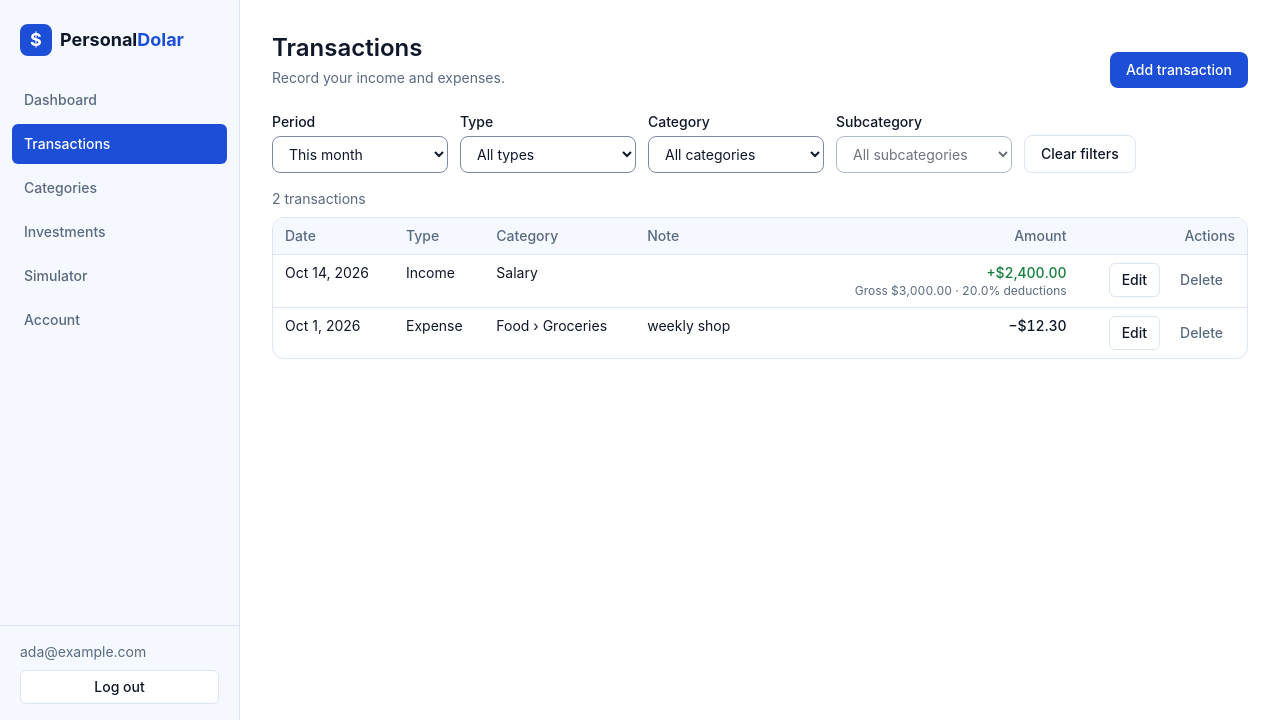
Test: Add transaction › creates an expense with the exact body, closes and refetches the list
The width and height of the screenshot is (1280, 720).
Expected: the heading "Transactions" is shown, [272,33,422,62]
Expected: the table named "Transactions" is shown, [273,218,1247,358]
Click the button "Add transaction".
click(1179, 70)  # box [1110,52,1248,88]
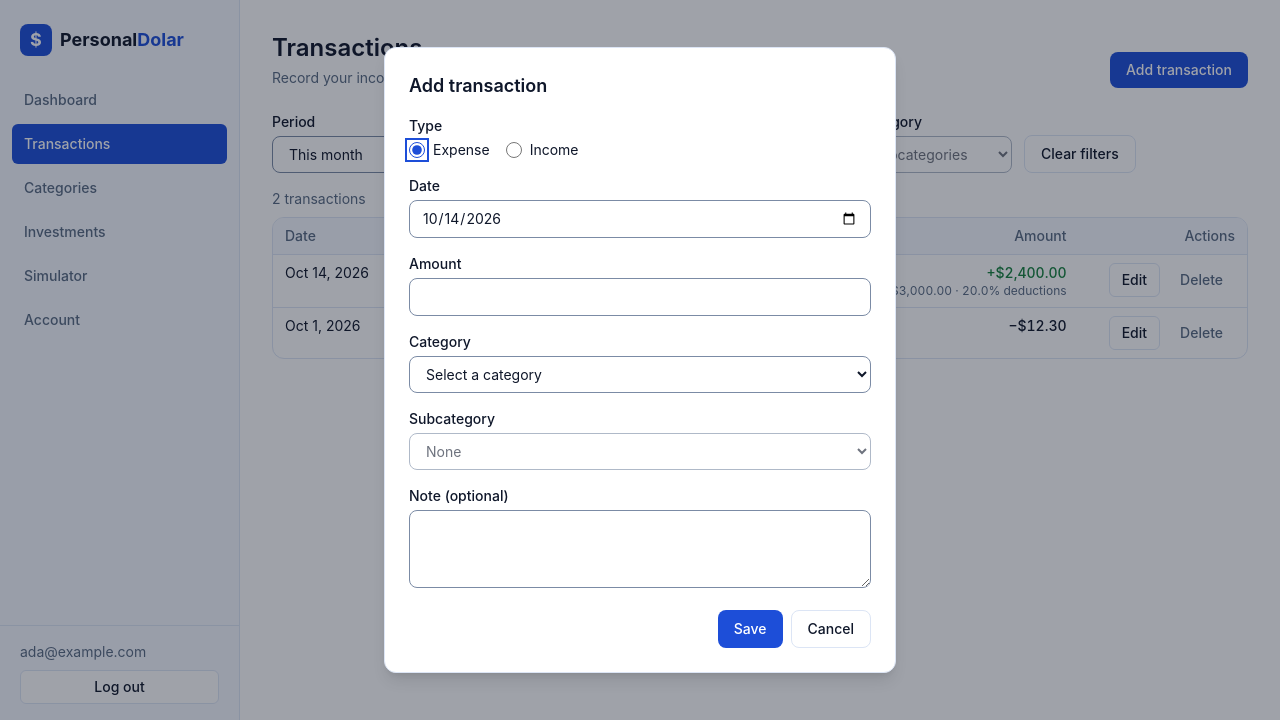
Result: the radio button labelled "Expense" is checked at [409,142,425,158]
Result: the date field labelled "Date" holds "2026-10-14" at [409,200,871,238]
Type "12.30" into the field labelled "Amount".
click(640, 297); type("12.30")  # box [409,278,871,316]
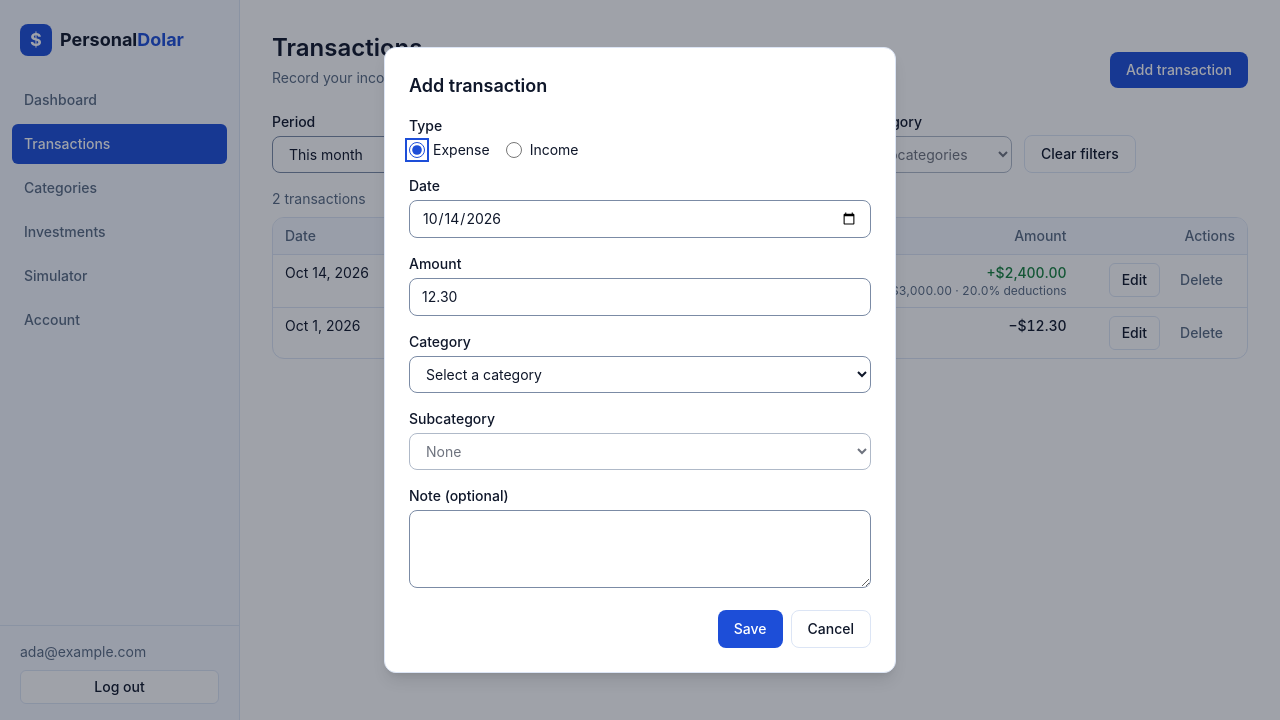
Select "Food" in the dropdown labelled "Category" at (640, 374), box [409,356,871,393]
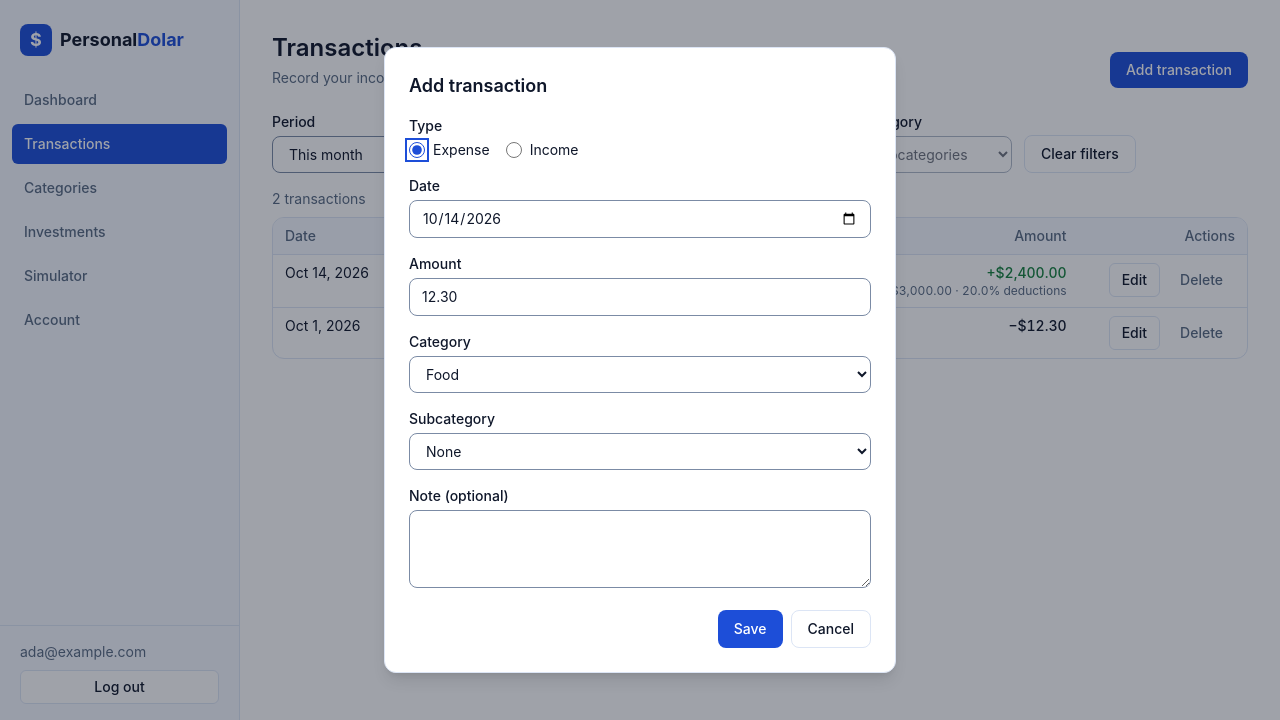
Select "Groceries" in the dropdown labelled "Subcategory" at (640, 452), box [409,433,871,470]
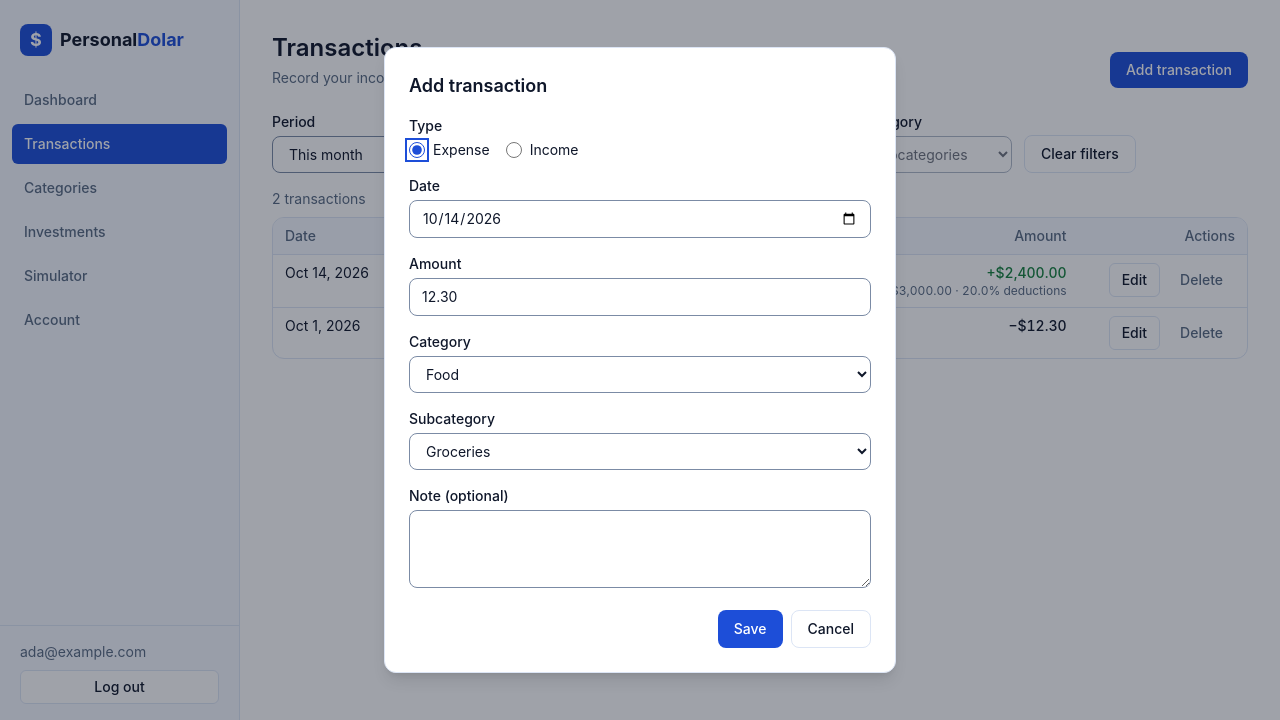
Type "  weekly shop  " into the text box labelled "Note (optional)".
click(640, 549); type("  weekly shop  ")  # box [409,510,871,588]
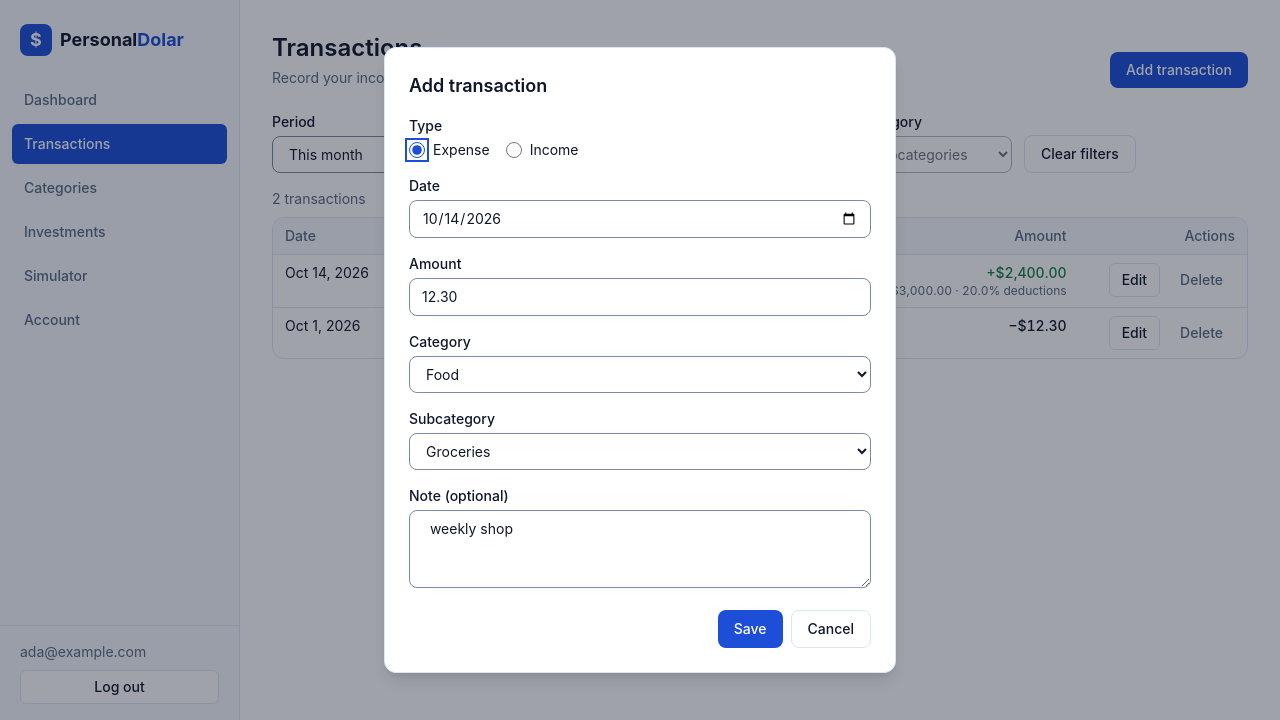
Click the button "Save".
click(750, 629)  # box [718,610,782,648]
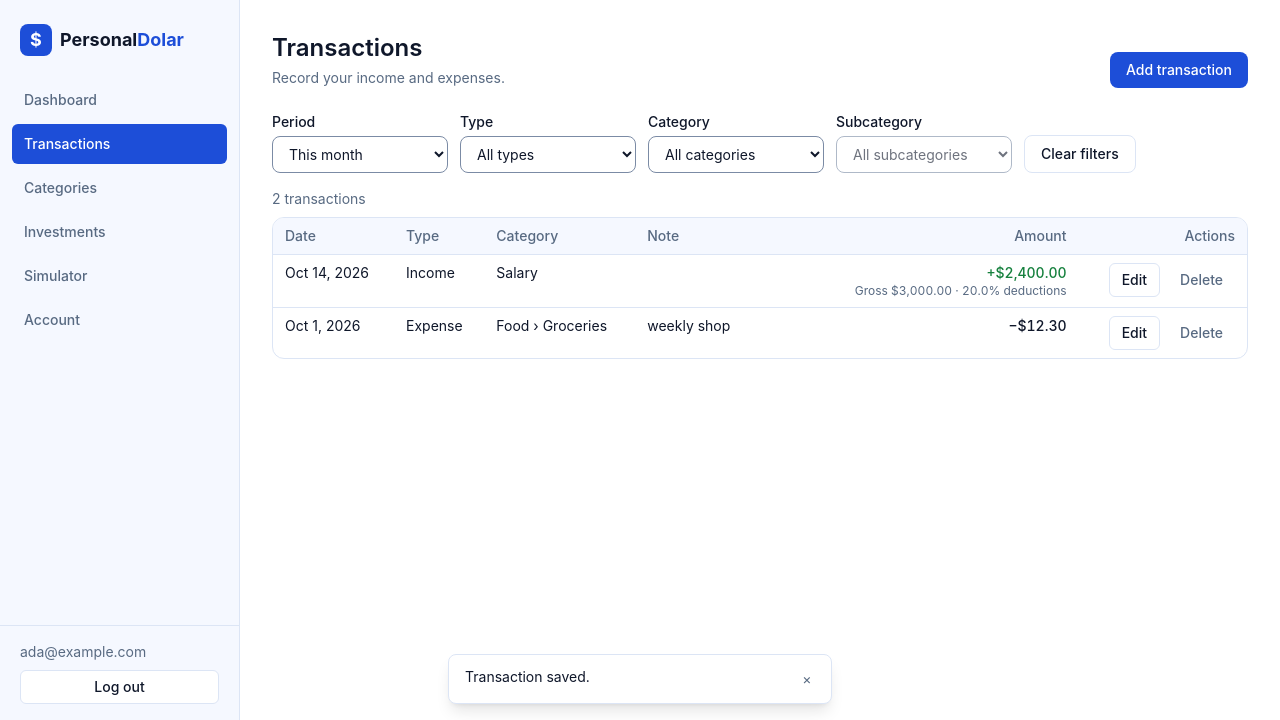
Result: the dialog is gone
